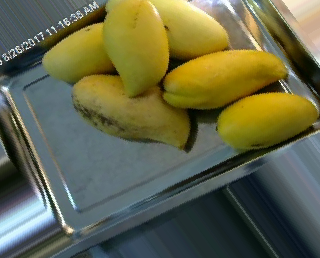Mango: (70, 72, 198, 155), (160, 45, 284, 113), (96, 0, 173, 100), (213, 86, 320, 155), (42, 19, 125, 90), (139, 1, 231, 63)
